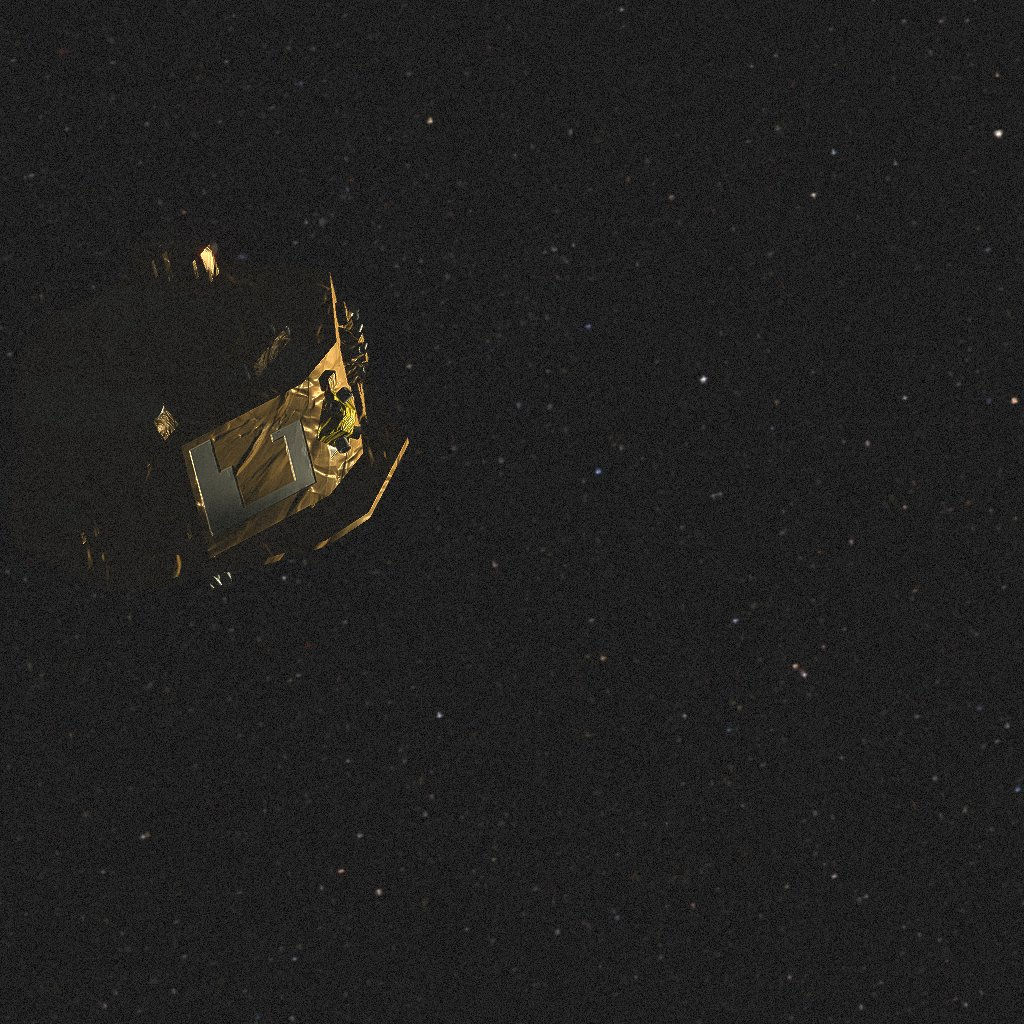lisa_pathfinder: (0, 233, 409, 593)
